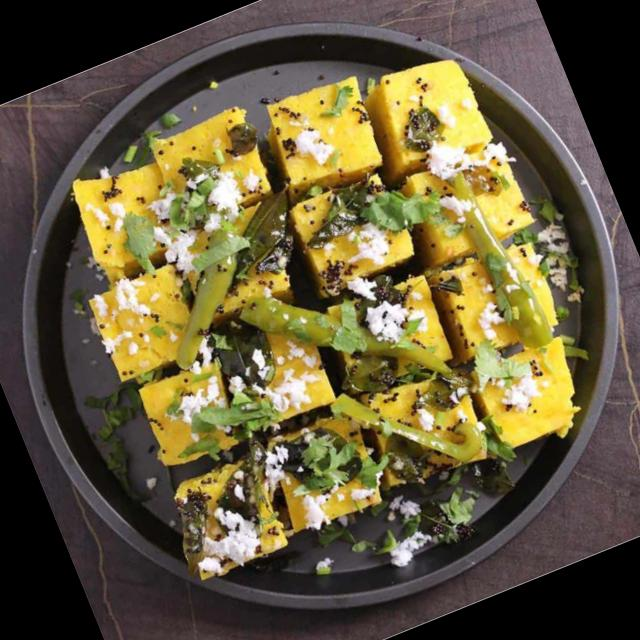dhokla: (46, 18, 600, 580)
